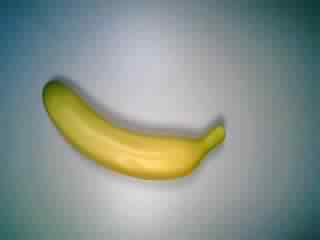banana: (34, 72, 229, 183)
